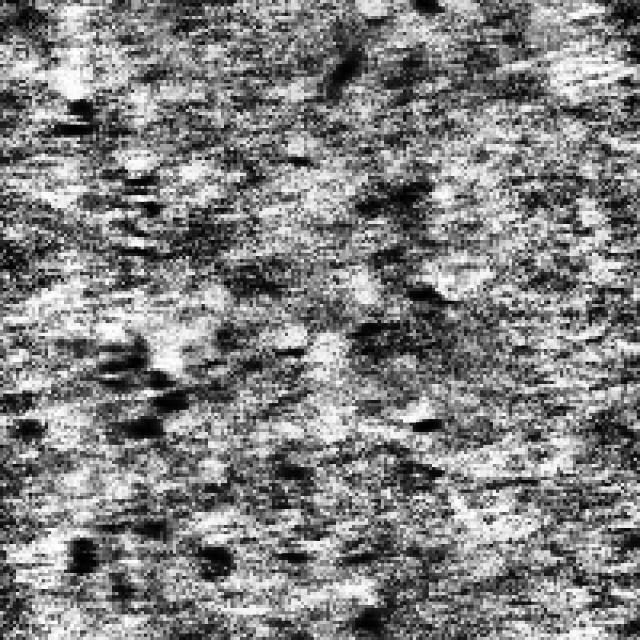Crazing: (60, 86, 214, 580), (307, 269, 467, 445)
